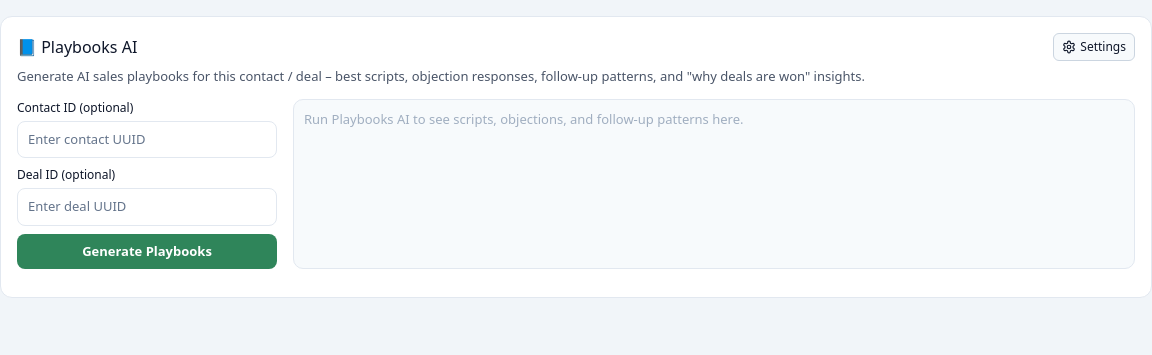
it: PlaybooksPanel › Form Validation › should show error when both contact ID and deal ID are empty
Click the button "Generate Playbooks": (147, 251) [17,234,277,269]
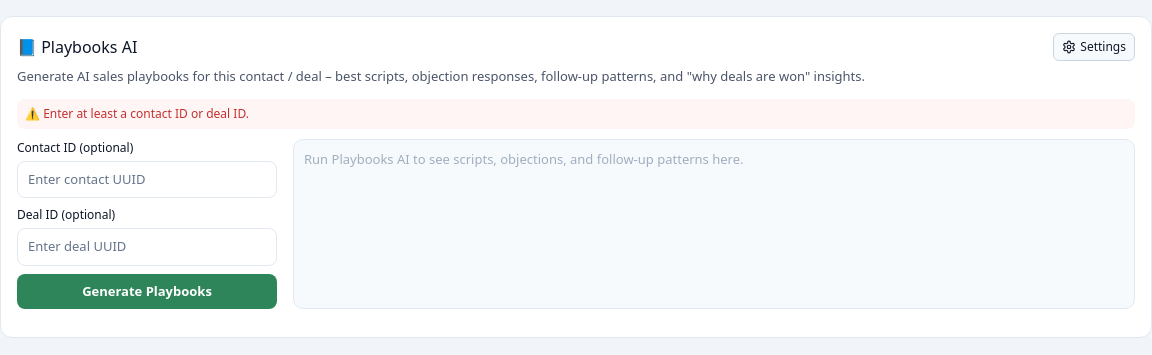
Result: the text "⚠️ Enter at least a contact ID or deal ID." is shown at [17,98,1135,128]
